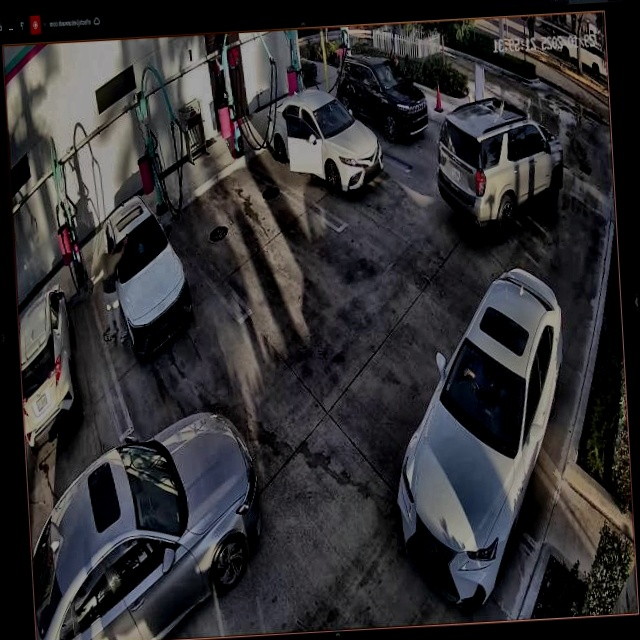Car: (381, 265, 578, 614), (25, 407, 264, 640), (432, 93, 568, 244), (102, 192, 193, 360), (265, 88, 383, 192)
